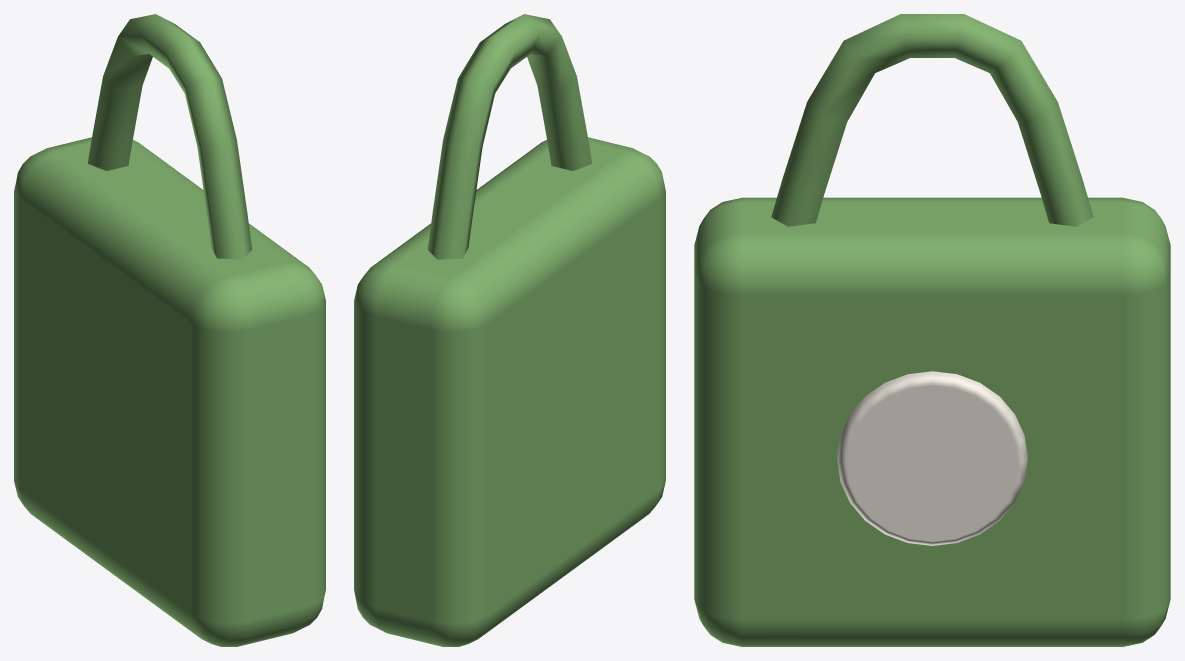
The model's file is furoshiki_bag.glb.
The picture shows the model from 3 angles, left to right: view 1: azimuth 30°, elevation 25°; view 2: azimuth 150°, elevation 25°; view 3: azimuth 270°, elevation 25°; orthographic projection. The views are drawn at different scales.
Visible parts, largest first — view 1: furoshiki_bag_ArmR; view 2: furoshiki_bag_ArmR; view 3: furoshiki_bag_ArmR.
Boxes of the visible parts, <box> form: furoshiki_bag_ArmR: <box>14,14,325,646</box>; furoshiki_bag_ArmR: <box>354,14,665,646</box>; furoshiki_bag_ArmR: <box>694,14,1170,646</box>.
Size of the model in its own units: 0.076 by 0.2842 by 0.2.
